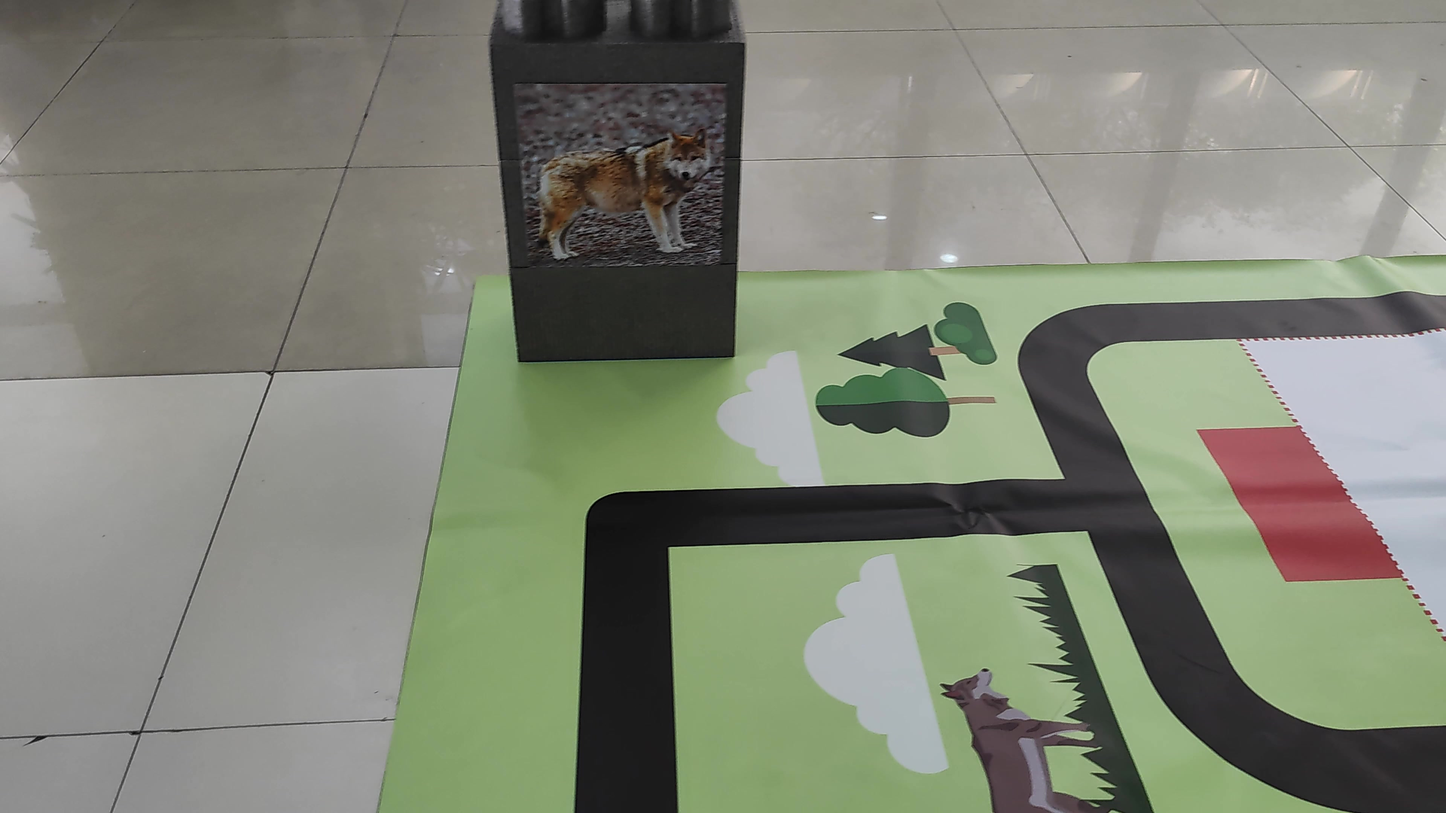wolf: (525, 84, 728, 263)
